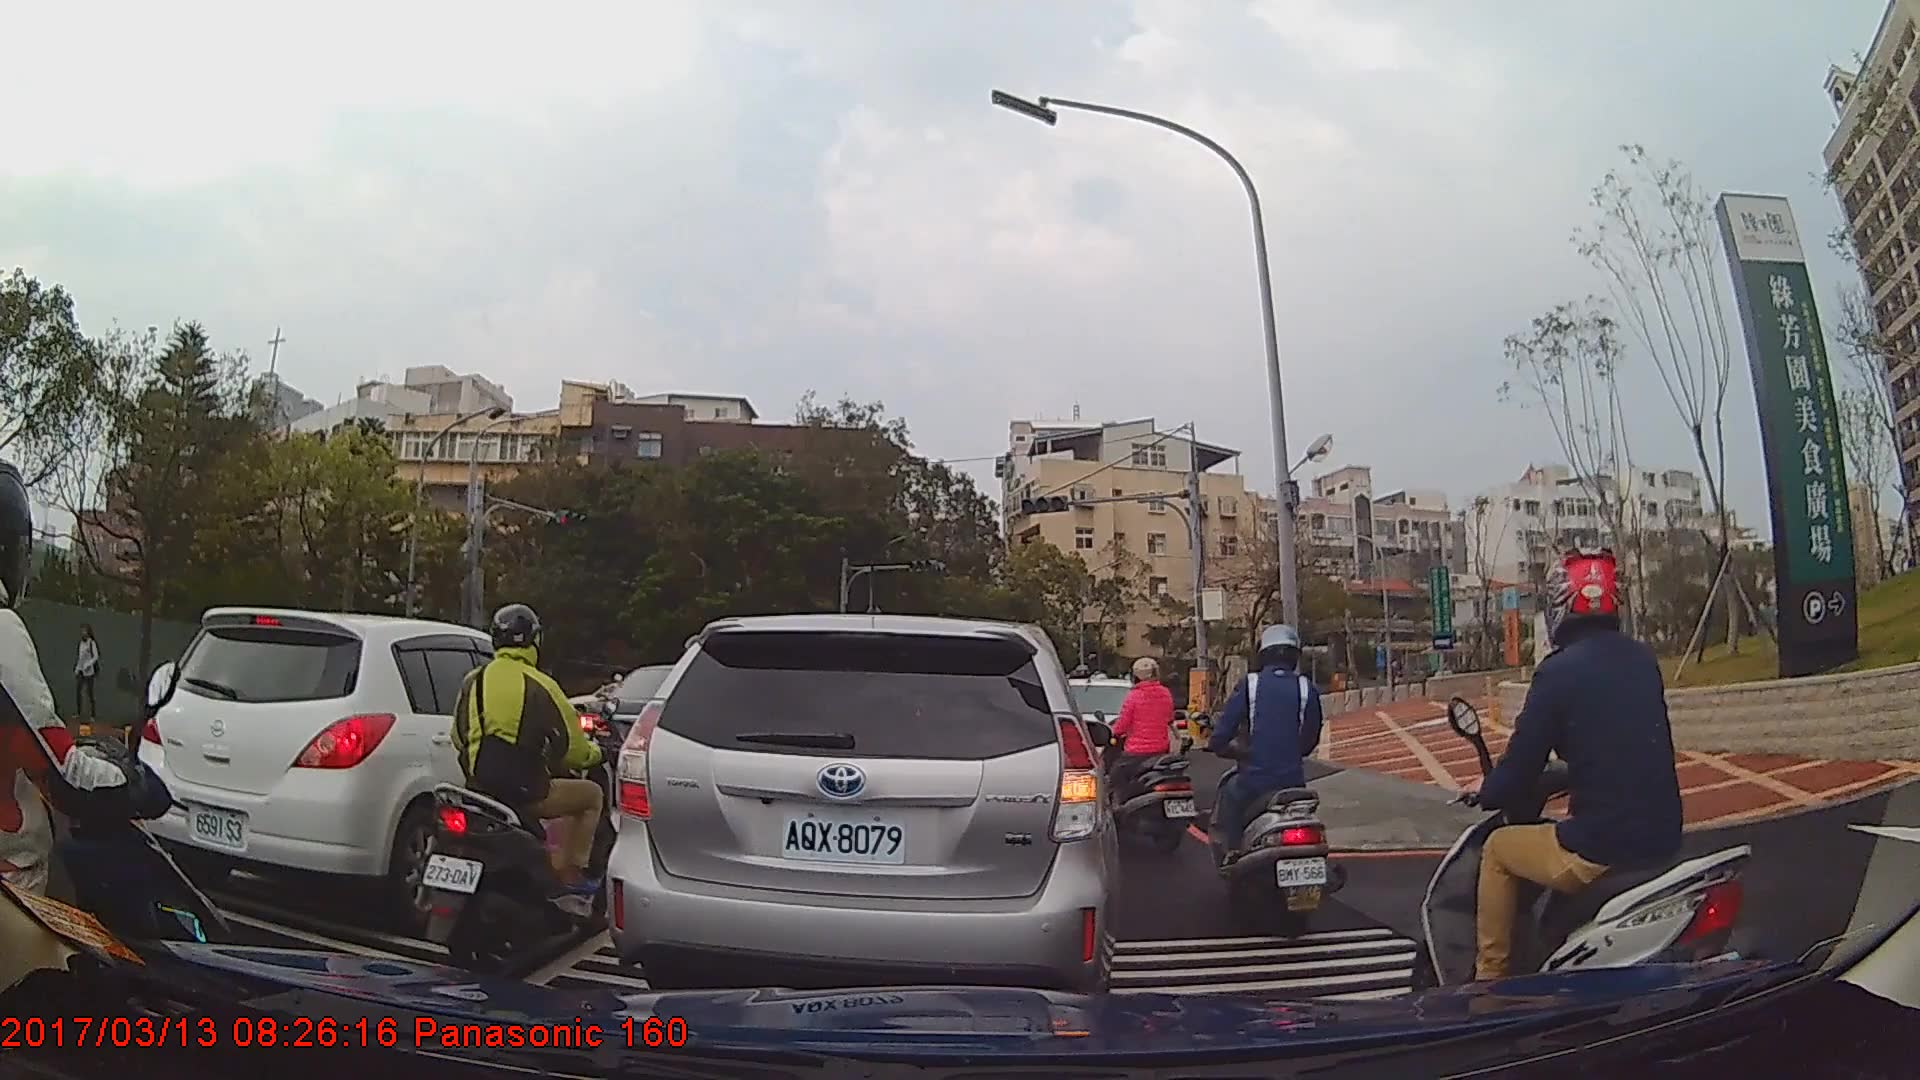pedestrian: (75, 623, 102, 721)
rider: (1419, 545, 1750, 1044), (1, 458, 242, 1080), (423, 598, 628, 972), (1209, 616, 1338, 946), (1084, 654, 1192, 861), (1158, 670, 1197, 758)
vehicle: (604, 611, 1120, 1017), (136, 603, 605, 931)
